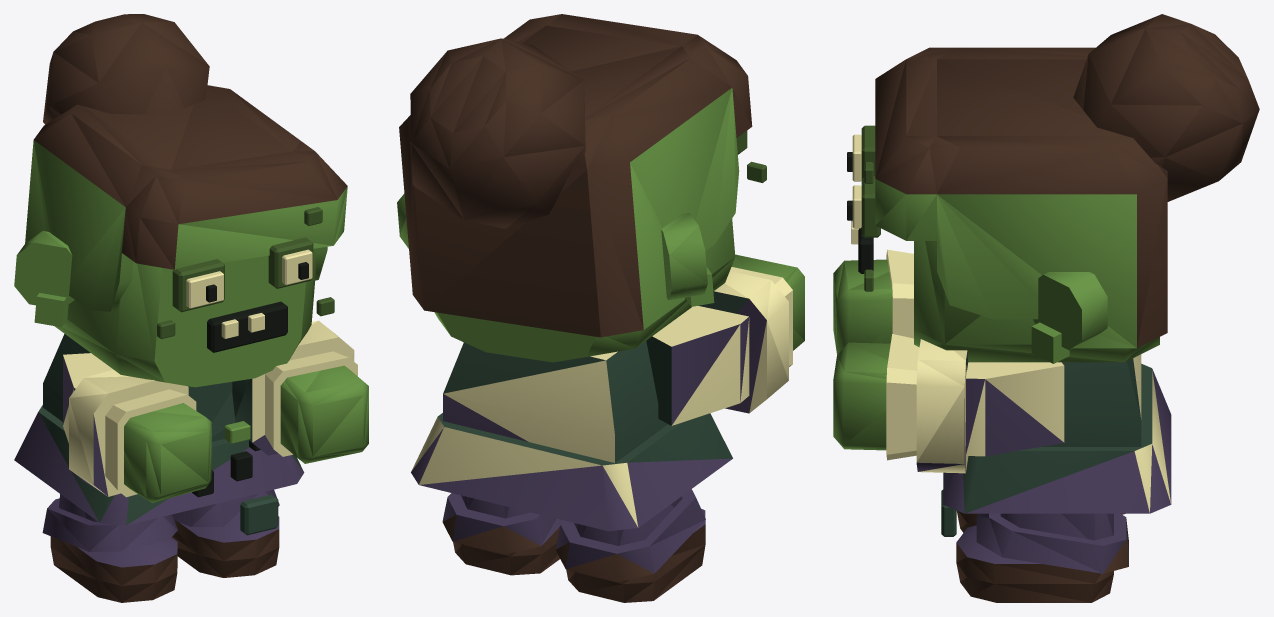
The model's file is zombie-female-d-blockie.obj.
3 renders of one model, left to right at view 1: azimuth 30°, elevation 25°; view 2: azimuth 150°, elevation 25°; view 3: azimuth 270°, elevation 25°, orthographic. The views are drawn at different scales.
Visible parts, largest first — view 1: zombie-female-d-blockie; view 2: zombie-female-d-blockie; view 3: zombie-female-d-blockie.
Boxes of the visible parts, box(x1,y1,x2,y2) form: zombie-female-d-blockie: box(14, 14, 368, 602); zombie-female-d-blockie: box(397, 14, 804, 602); zombie-female-d-blockie: box(833, 14, 1259, 602).
Bounding box in the file's own units: 0.4559 × 0.7739 × 0.5543.
Materials: 1 (1 with a texture image).
